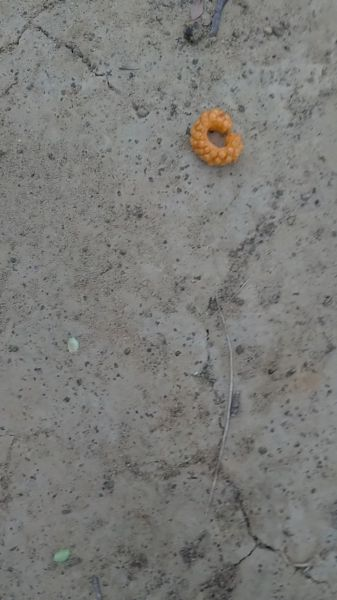eggs: (188, 107, 242, 173)
